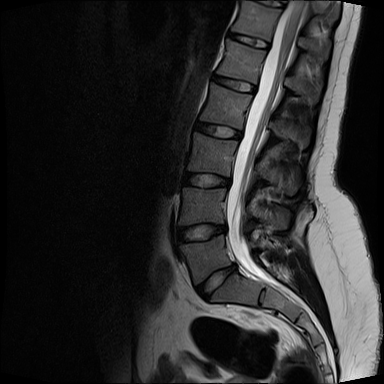Lumbar Disc Bulge (LDB): (190, 259, 244, 306), (174, 220, 233, 248)
Normal IVD: (190, 116, 245, 144), (207, 71, 260, 98), (179, 167, 234, 191), (224, 31, 274, 54)
Spinal Stenosis (SS): (218, 217, 232, 237), (227, 259, 239, 277)
